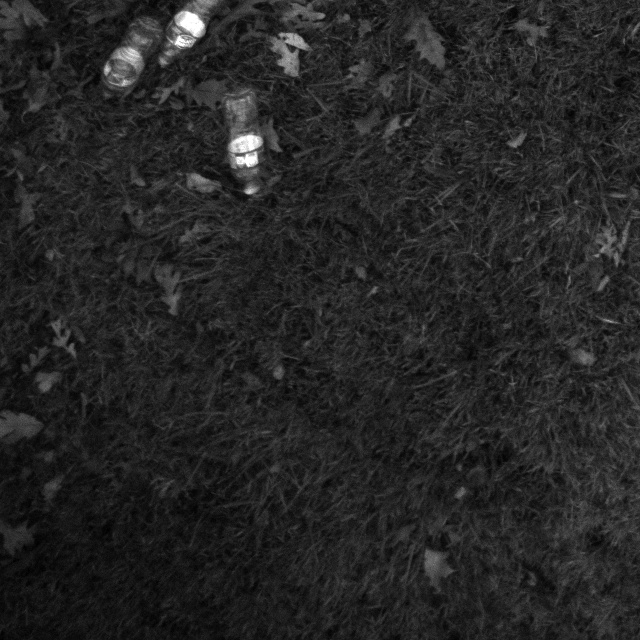bottle: (208, 83, 278, 209), (140, 0, 238, 78), (90, 12, 169, 102)
